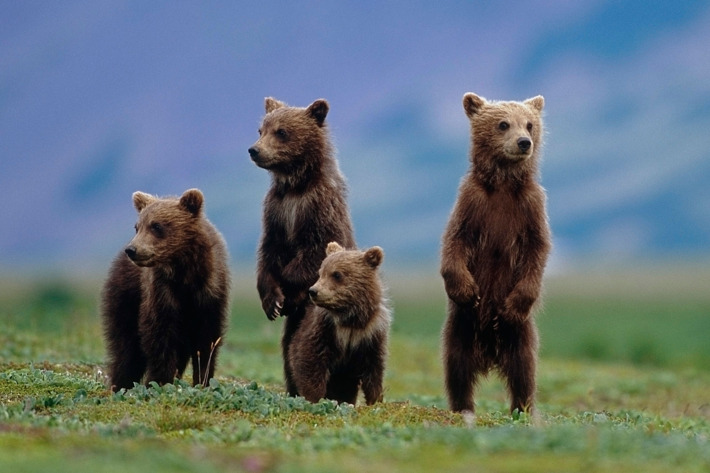bear: (243, 91, 333, 175), (122, 187, 210, 269), (460, 88, 548, 165), (300, 238, 387, 313)
